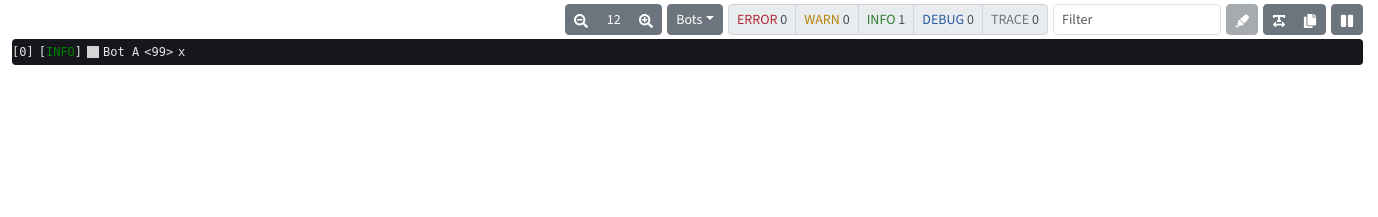
Test: Logs (per-bot filtering) › labels a bot from its actual log name, not the computed index
Step 1. Click the button "Bots" → [695, 20], box [667,4,723,35]
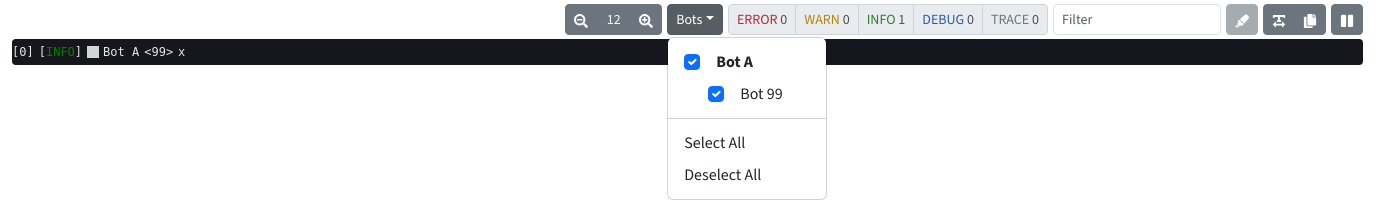
Now the button "Bot 99" is shown, box [668,78,826,110]
